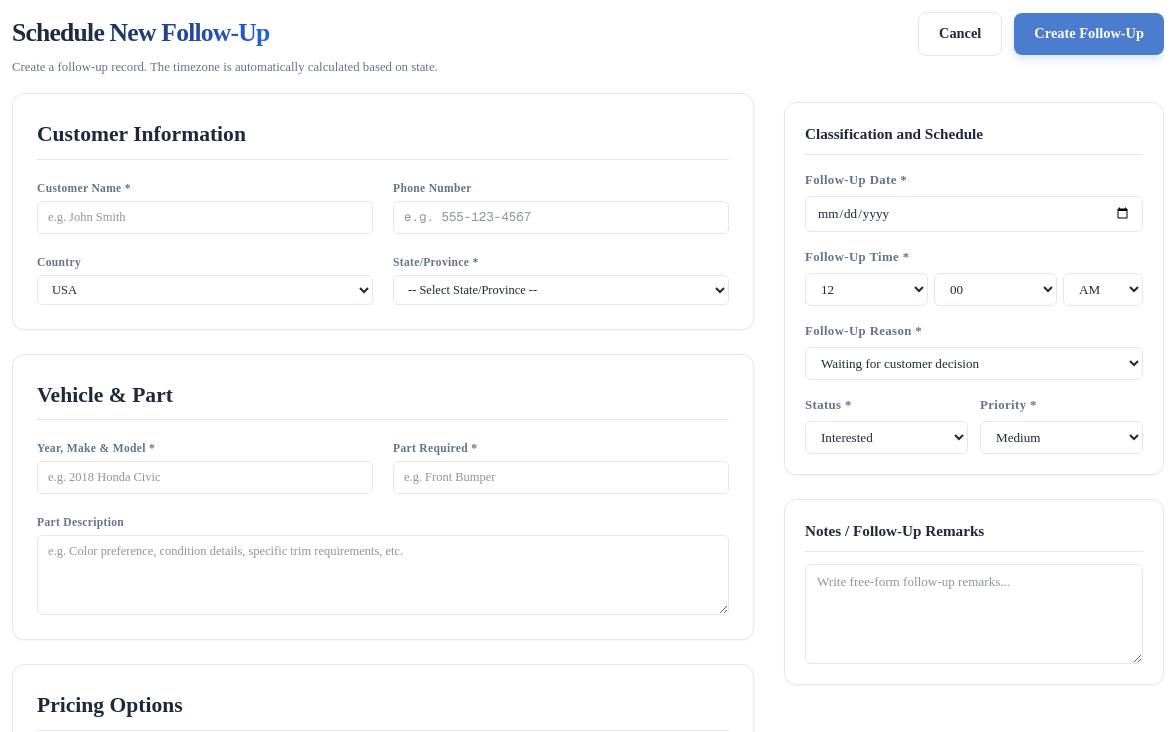
Test: AddFollowUpForm Component Unit Tests (W-3109) › should auto-format phone numbers as the user types
This screenshot has width=1176, height=732.
// Normal typing
Type "5551234567" into the field labelled "Phone Number".
click(561, 217); type("5551234567")  # box 393,201 -> 729,234
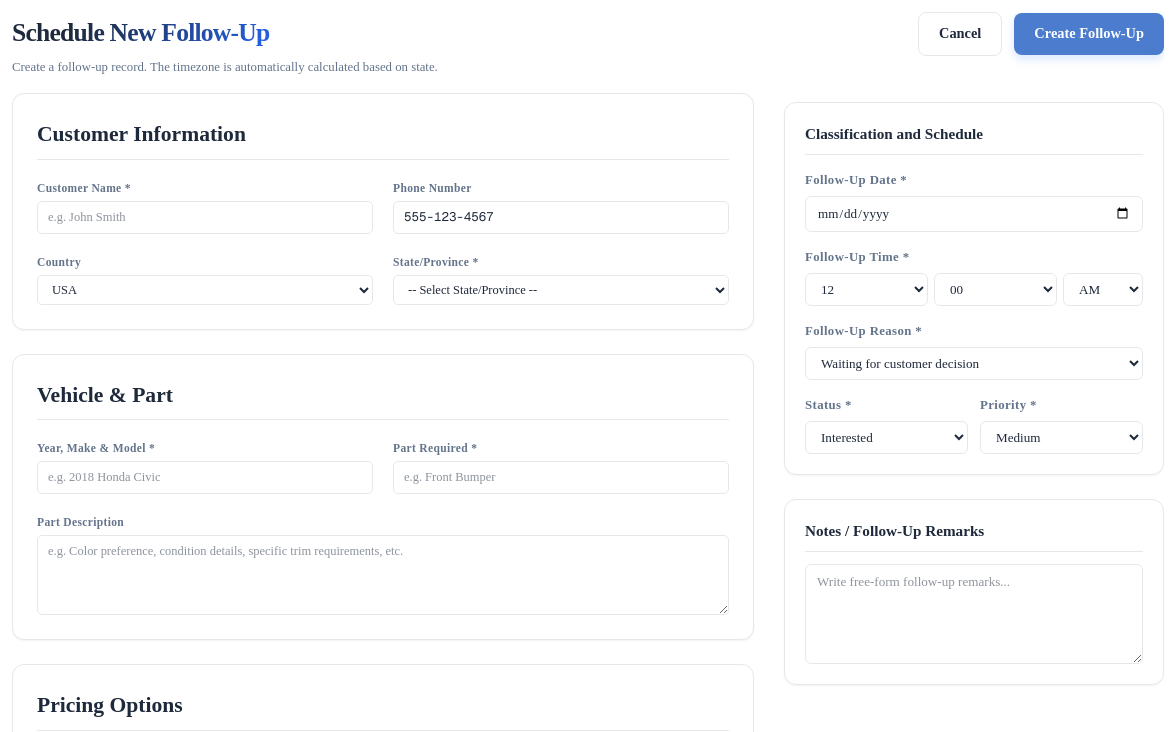
Result: the field labelled "Phone Number" holds "555-123-4567"
// Incomplete typing
Replace the text in the field labelled "Phone Number" with "55" at (561, 217), box 393,201 -> 729,234
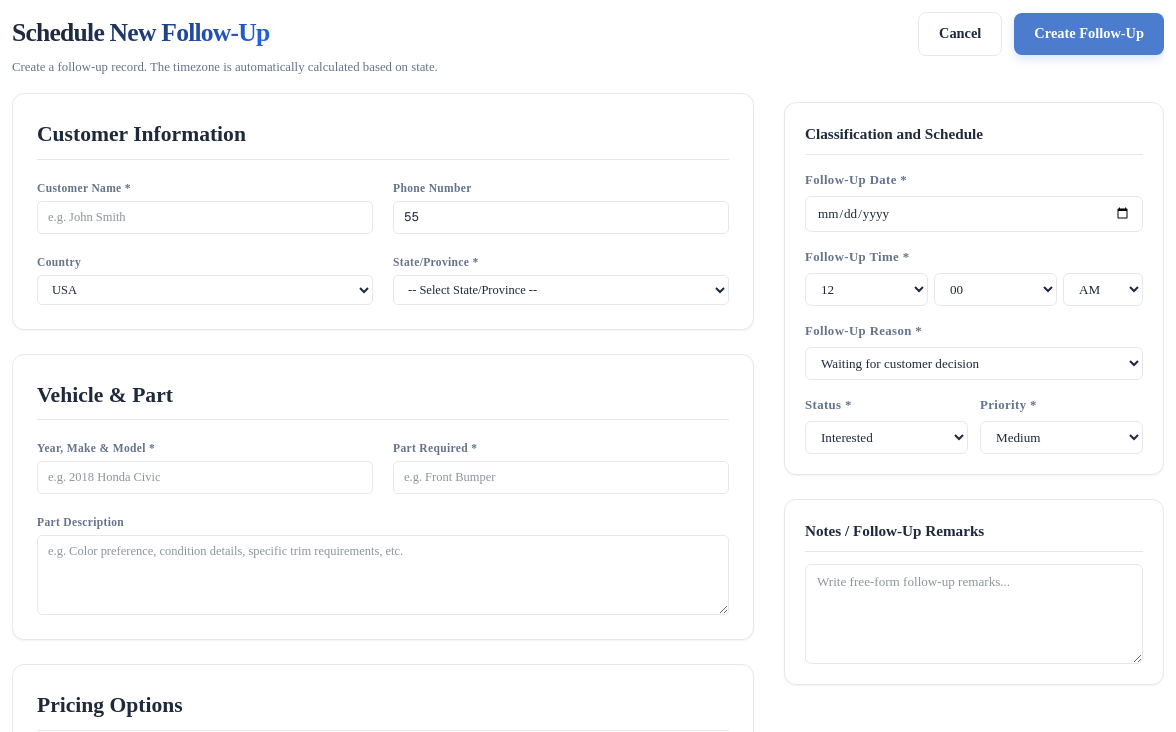
// Non-digits stripping and truncation
Replace the text in the field labelled "Phone Number" with "5551236789abc" at (561, 217), box 393,201 -> 729,234
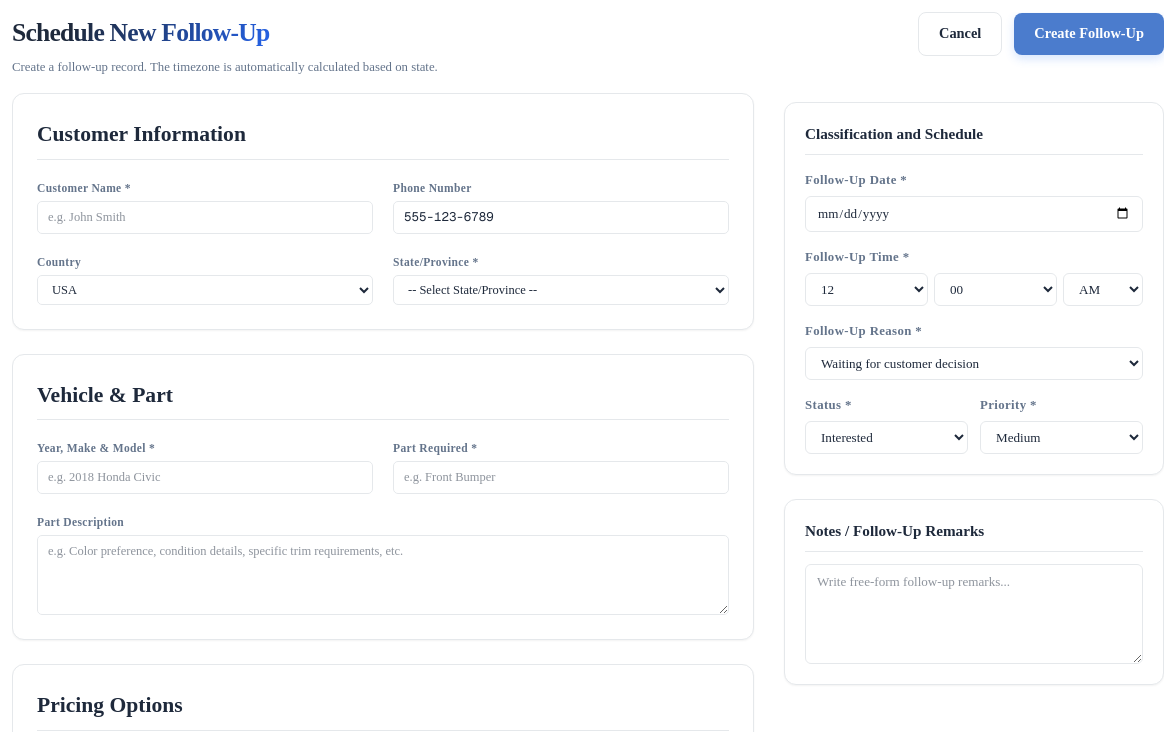
Result: the field labelled "Phone Number" holds "555-123-6789" at 393,201 -> 729,234
